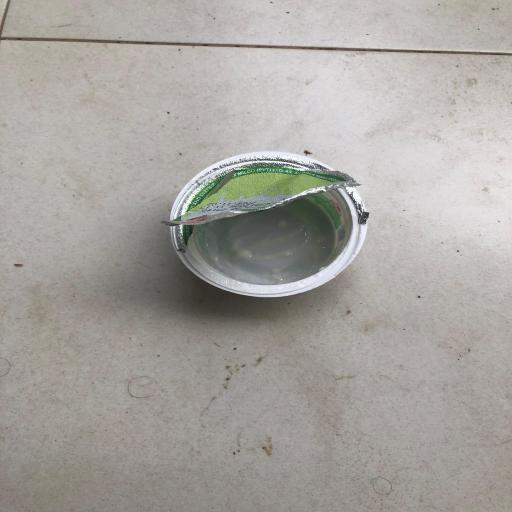waste: (158, 136, 386, 306)
